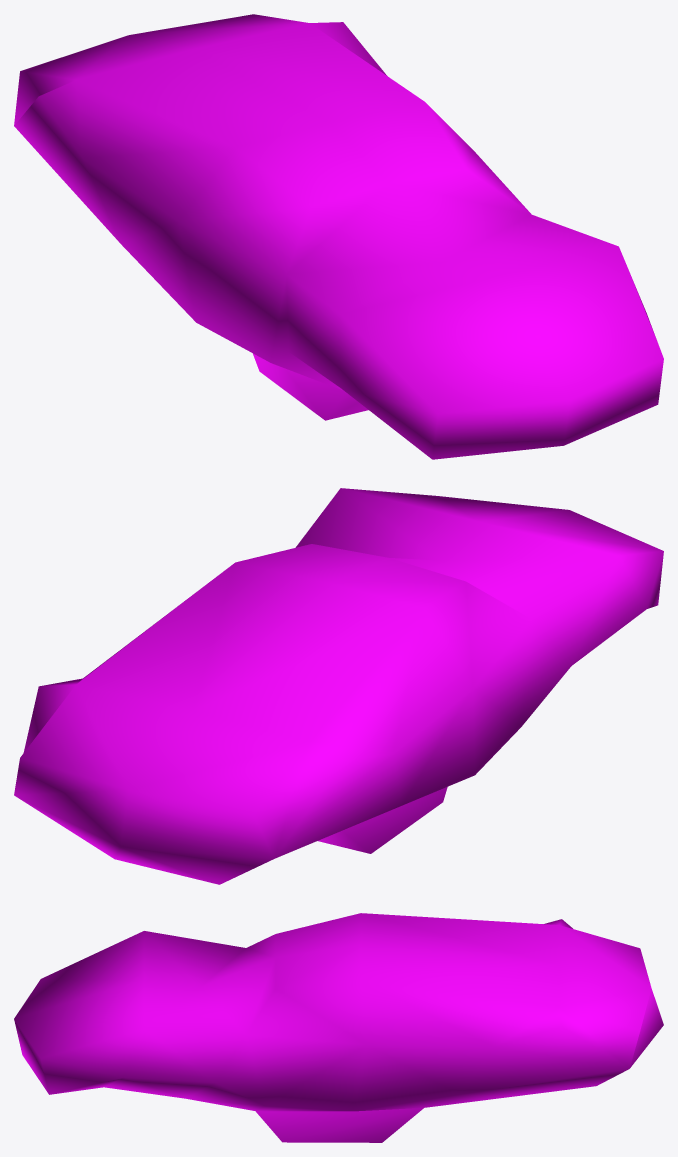
Rendered from the_missile_collider.FBX.
3 views of the same model, one above another, from view 1: azimuth 30°, elevation 25°; view 2: azimuth 150°, elevation 25°; view 3: azimuth 270°, elevation 25° (orthographic). The views are drawn at different scales.
Parts seen in each view (by area): view 1: collider; view 2: collider; view 3: collider.
Boxes of the visible parts, box(x1,y1,x2,y2) form: collider: box(14, 14, 663, 459); collider: box(14, 488, 663, 884); collider: box(14, 913, 663, 1142).
Bounding box in the file's own units: 2.02 × 1.53 × 5.06.
